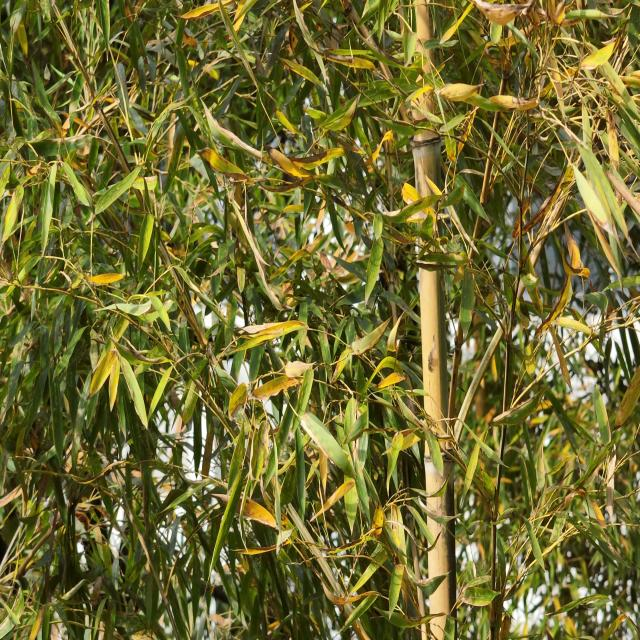Bamboo-shoots: (402, 0, 458, 640)
